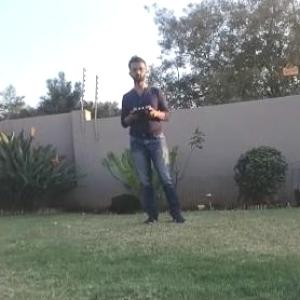follow: (119, 49, 192, 228)
